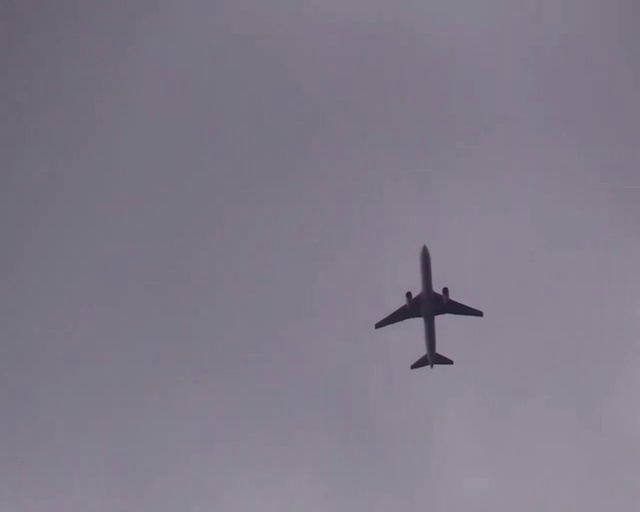AIRPLANE: (374, 244, 485, 370)
